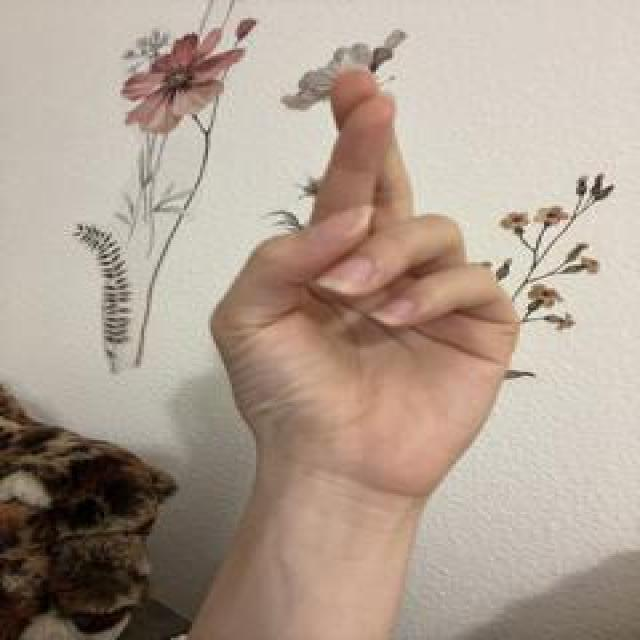R: (201, 58, 527, 504)
